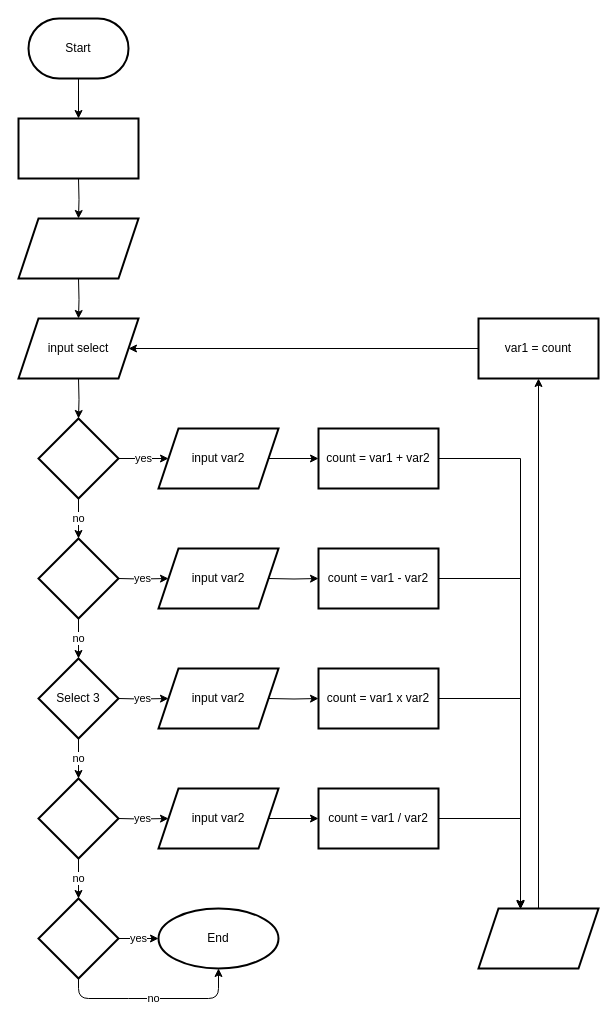
This 616x1024 diagram has some shape labels left out. Each missing label, with the centre of its shape:
float var1, var2, count int select: (78,148)
input var1: (78,248)
output count: (538,938)
select 1: (78,458)
Select 2: (78,578)
Select 4: (78,818)
Select 5: (78,938)
